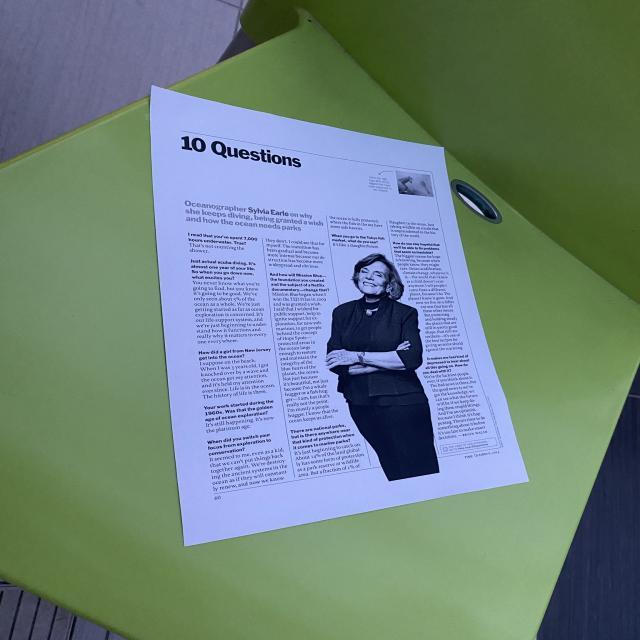document: (150, 88, 527, 545)
